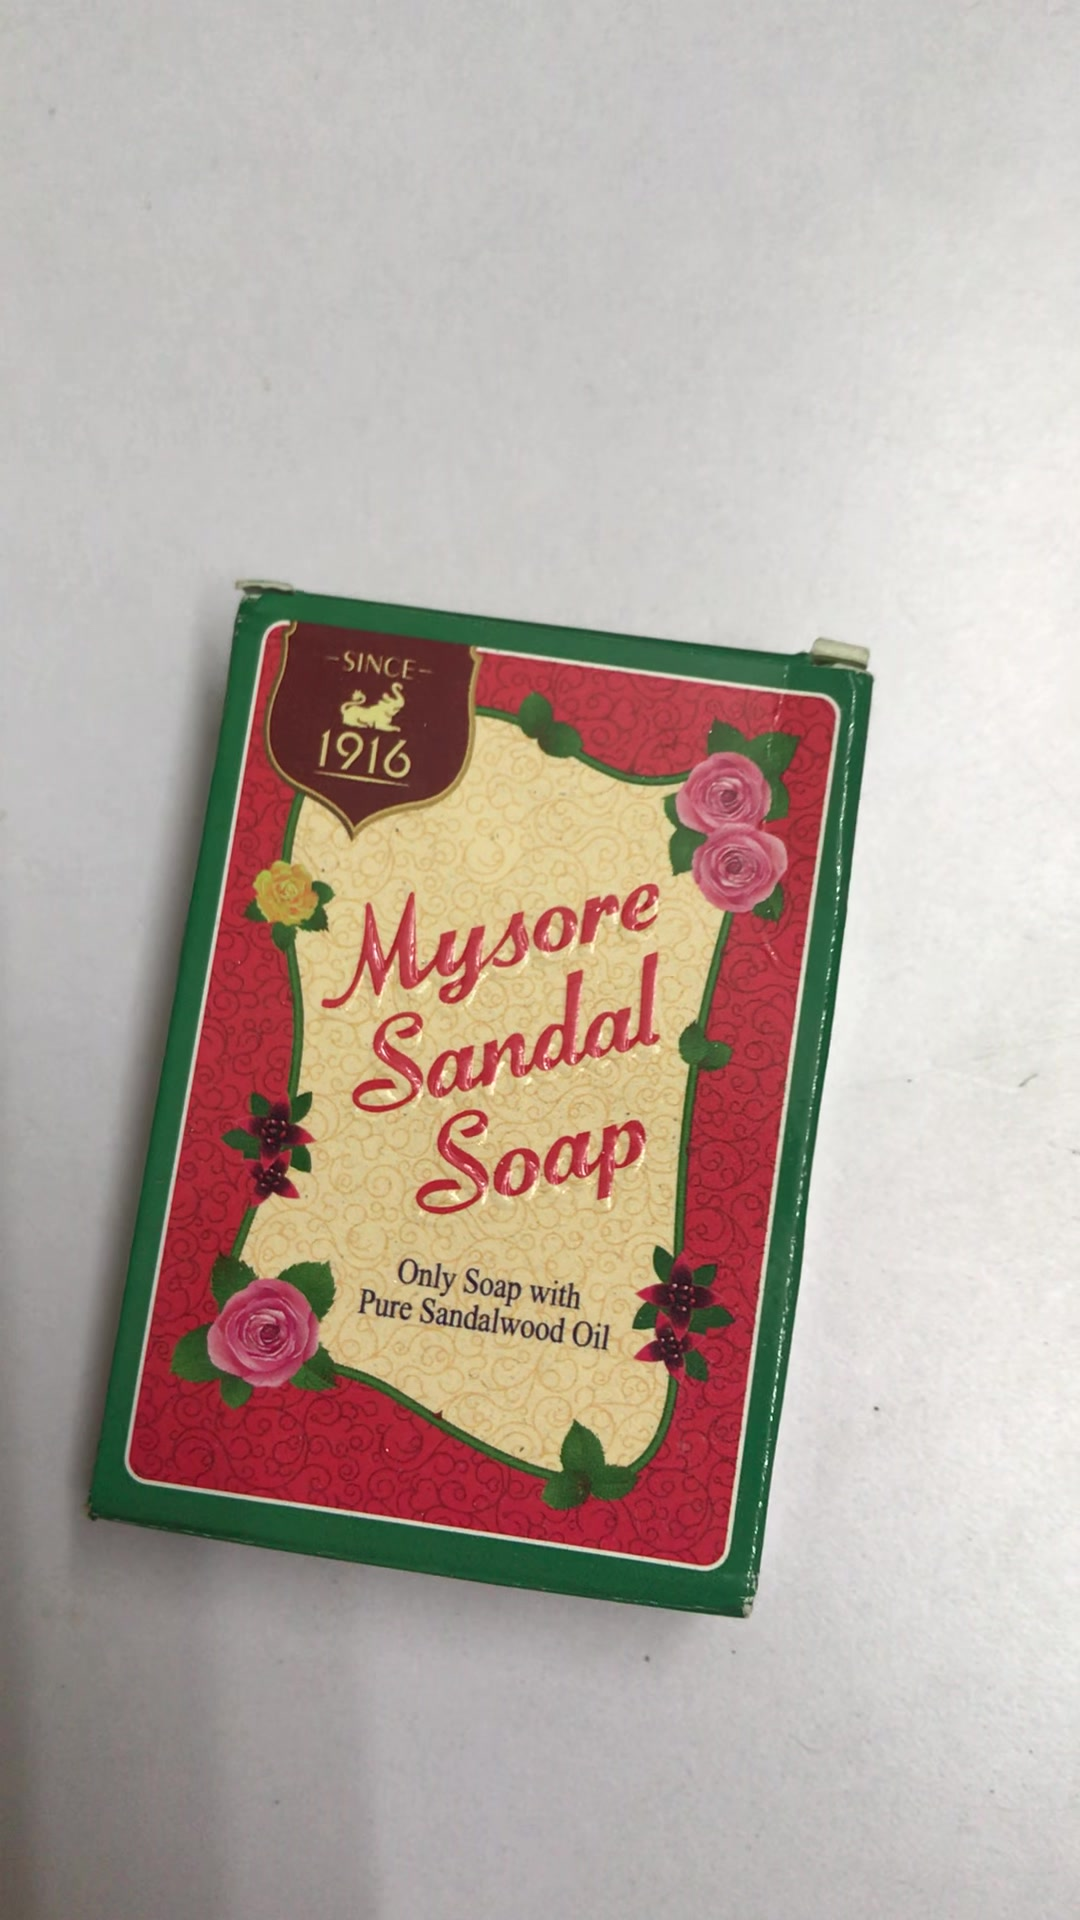mysore sandal soap: (90, 582, 878, 1619)
